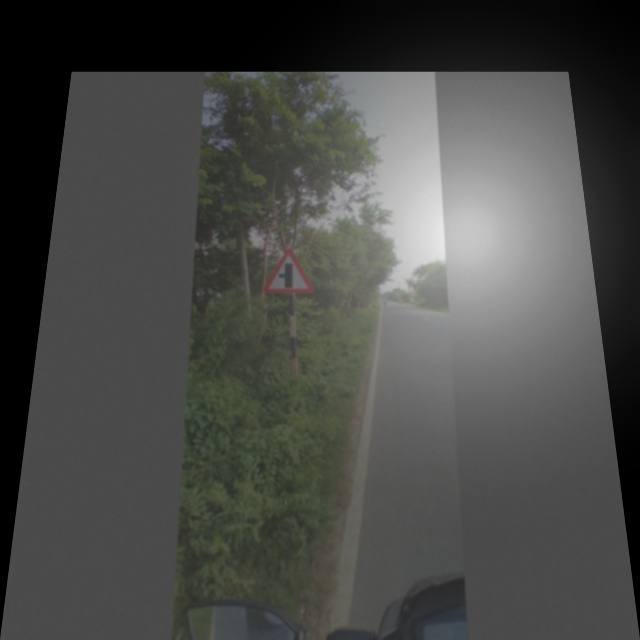Side_Road_Left: (259, 246, 319, 300)
